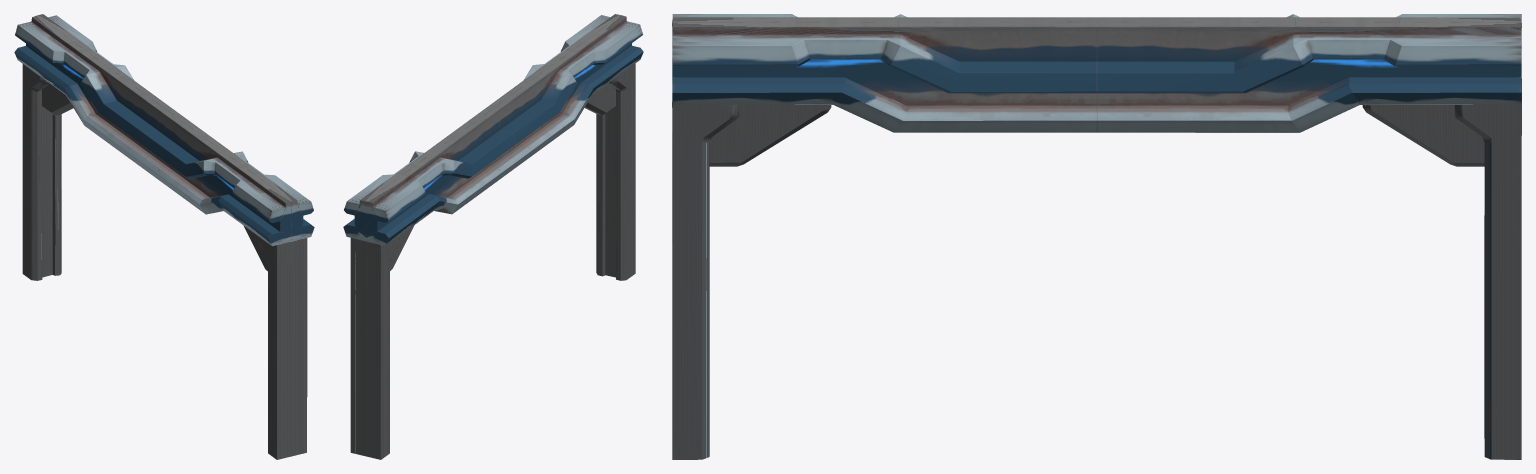
File: FenceFoundation_Tek_C.glb
3 views of the same model, side by side, from view 1: azimuth 30°, elevation 25°; view 2: azimuth 150°, elevation 25°; view 3: azimuth 270°, elevation 25° (orthographic). The views are drawn at different scales.
Parts seen in each view (by area): view 1: SM_Tek_FenceFoundation; view 2: SM_Tek_FenceFoundation; view 3: SM_Tek_FenceFoundation.
Boxes of the visible parts, x1,y1,x2,y2 form: SM_Tek_FenceFoundation: (14,14,314,459); SM_Tek_FenceFoundation: (343,14,643,459); SM_Tek_FenceFoundation: (672,14,1521,459).
Bounding box in the file's own units: 0.3134 × 1.66 × 3.
1 material, 1 textured.
